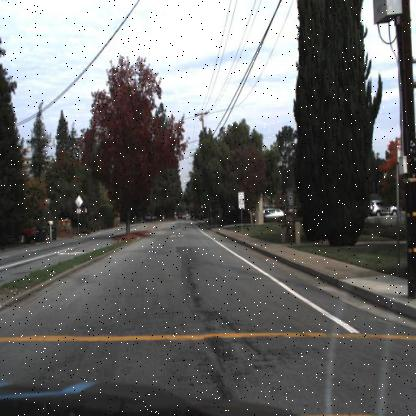car: (262, 204, 291, 224), (261, 207, 287, 223)
